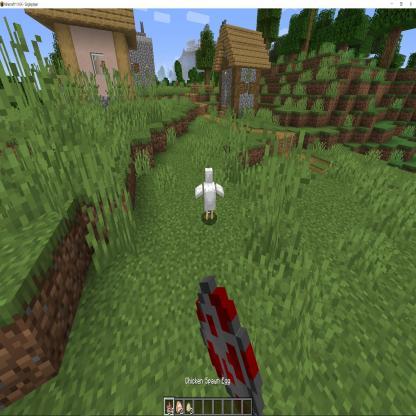minecraft-pigs: (194, 164, 225, 226)
